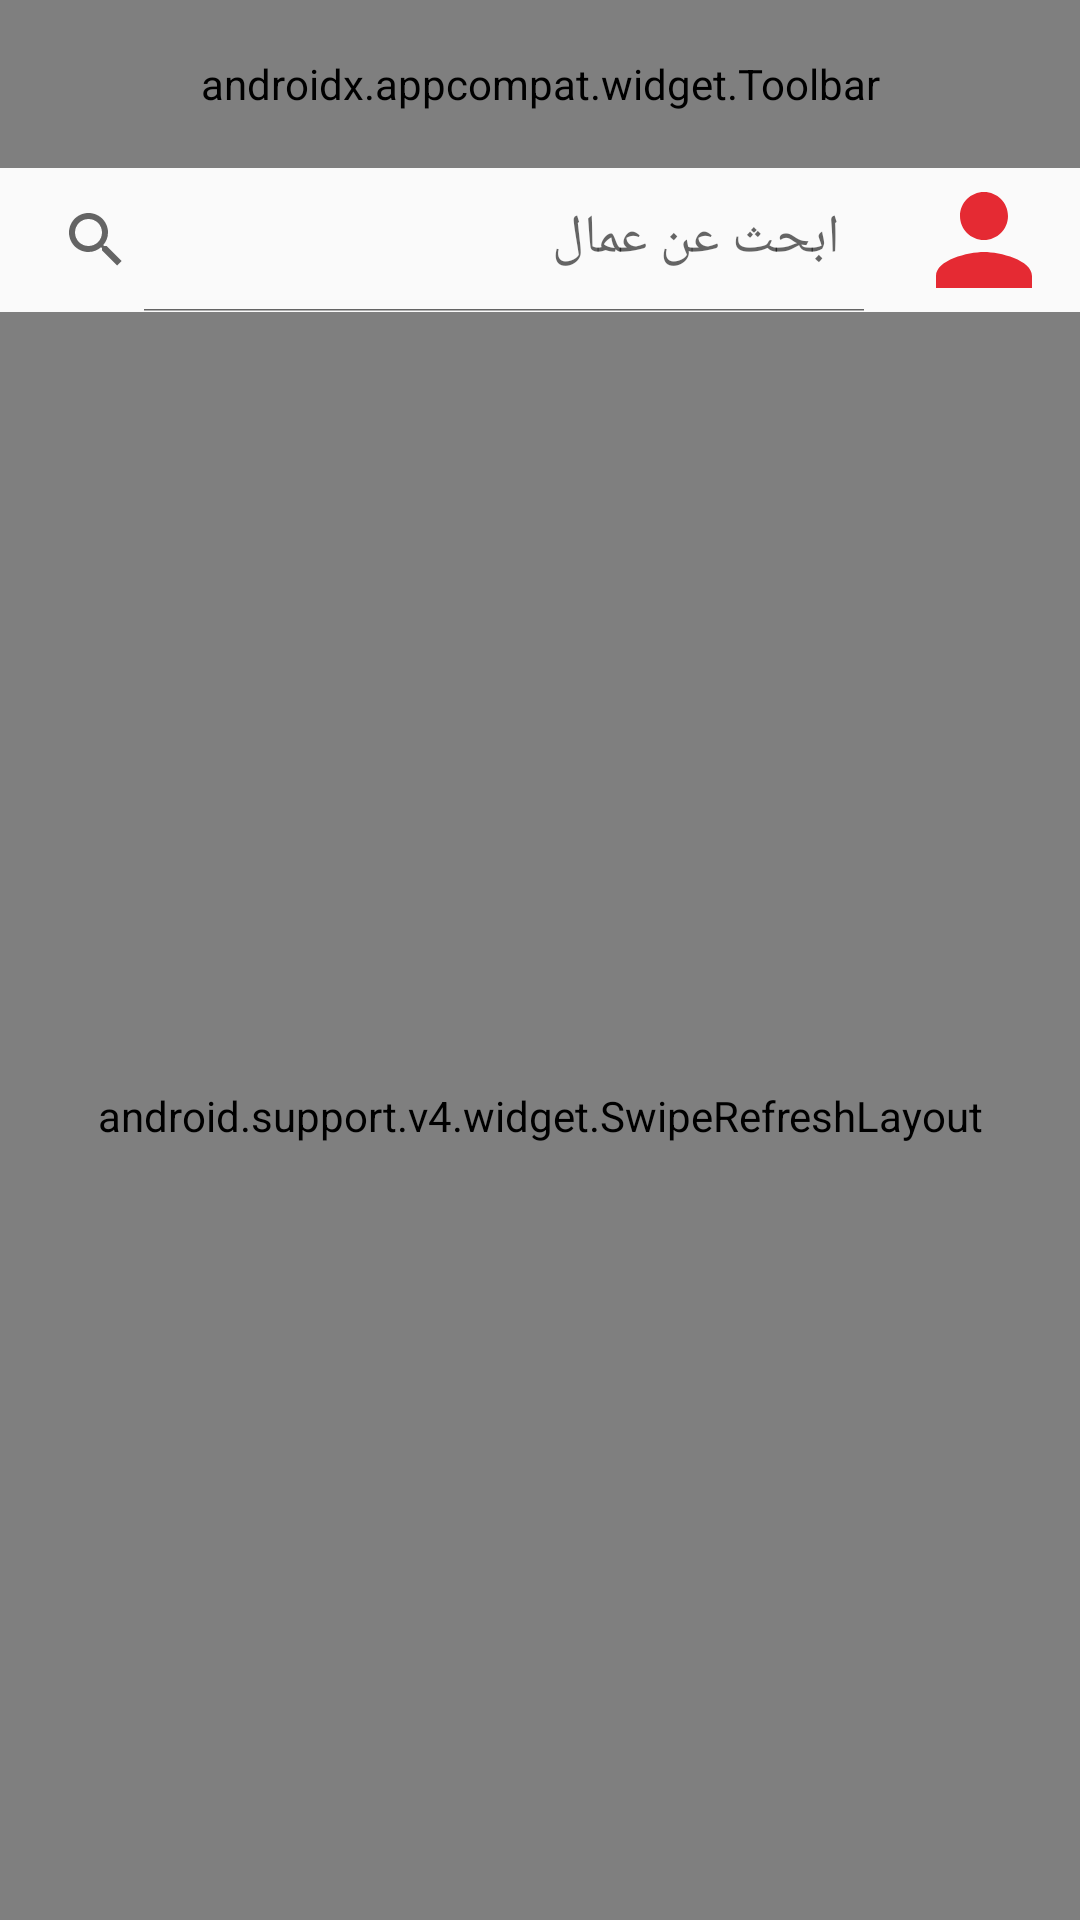

Where icons sit on this 1080 × 1920 app screen, as (x1, y1, x2, y2):
person: (936, 192, 1032, 288)
